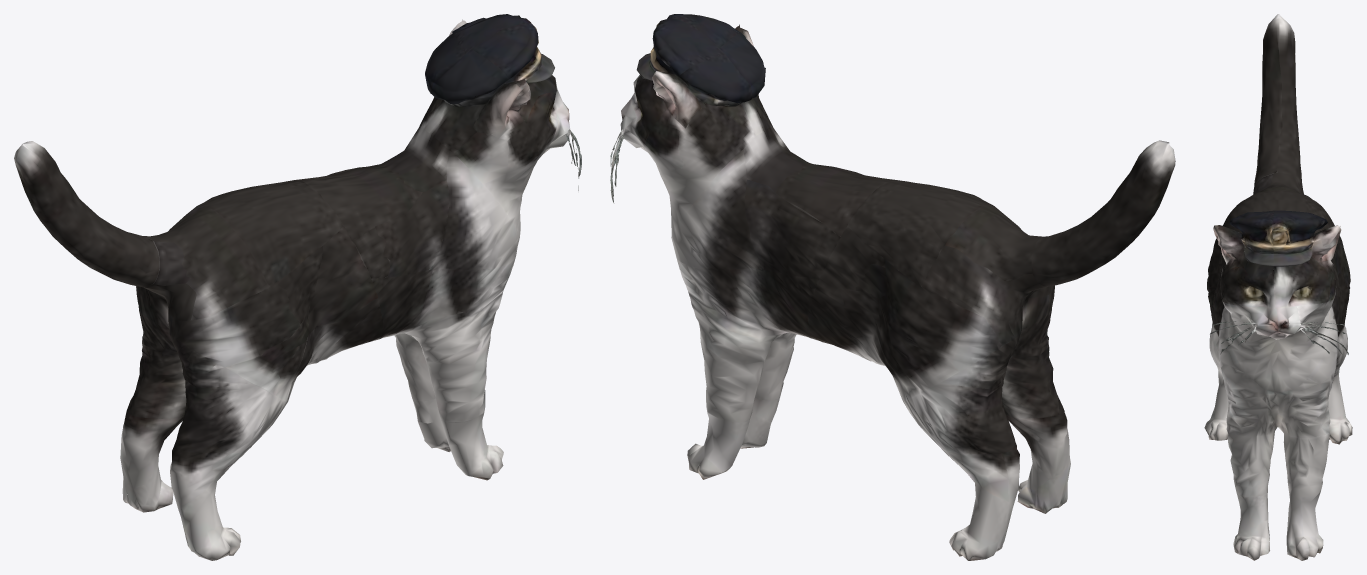
Rendered from YONTAMACAT-lo.glb.
The picture shows the model from 3 angles, left to right: view 1: azimuth 30°, elevation 25°; view 2: azimuth 150°, elevation 25°; view 3: azimuth 270°, elevation 25°; orthographic projection. The views are drawn at different scales.
Visible parts, largest first — view 1: tripo_node_832813d1-4978-46f8-9f68-ecfb71ab4b23; view 2: tripo_node_832813d1-4978-46f8-9f68-ecfb71ab4b23; view 3: tripo_node_832813d1-4978-46f8-9f68-ecfb71ab4b23.
Part boxes in pixels (bbox=[...]): tripo_node_832813d1-4978-46f8-9f68-ecfb71ab4b23: bbox=[14, 14, 581, 560]; tripo_node_832813d1-4978-46f8-9f68-ecfb71ab4b23: bbox=[610, 14, 1175, 560]; tripo_node_832813d1-4978-46f8-9f68-ecfb71ab4b23: bbox=[1204, 14, 1352, 560].
Size of the model in its own units: 1.34 by 0.998 by 0.3714.
Materials: 1 (1 with a texture image).
